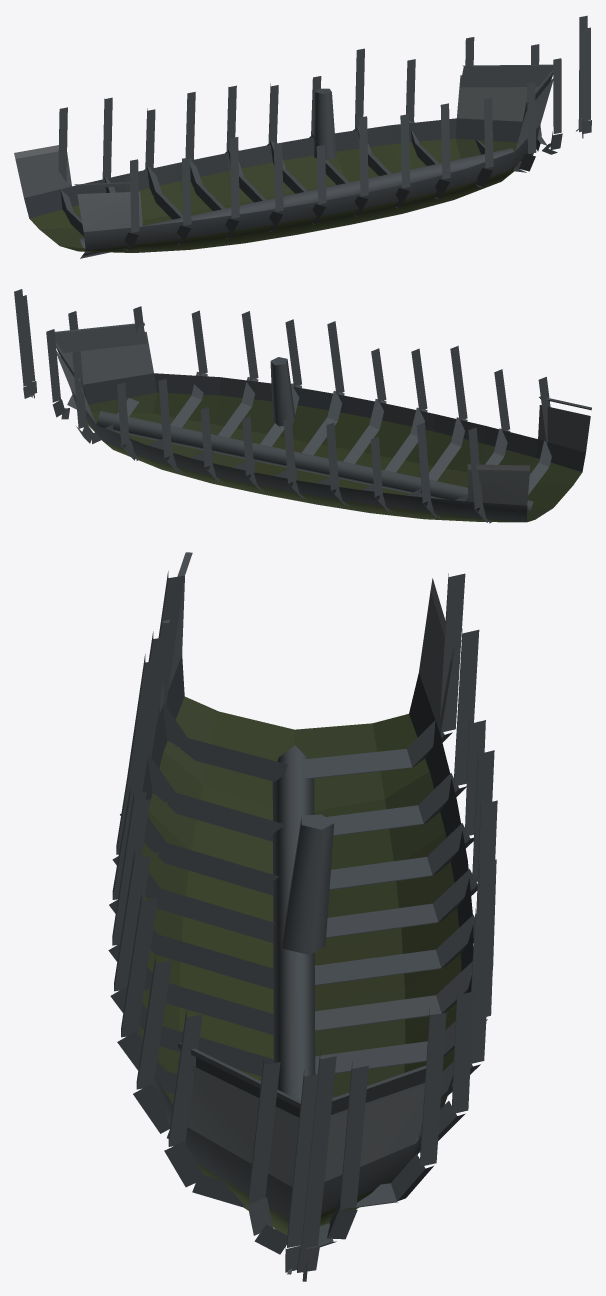
File: wreck_c.glb
3 views of the same model, one above another, from view 1: azimuth 30°, elevation 25°; view 2: azimuth 150°, elevation 25°; view 3: azimuth 270°, elevation 25° (orthographic). The views are drawn at different scales.
Parts seen in each view (by area): view 1: hull; view 2: hull; view 3: hull.
Boxes of the visible parts, bbox=[...] form: hull: bbox=[14, 15, 591, 258]; hull: bbox=[14, 289, 591, 523]; hull: bbox=[108, 552, 497, 1281].
Size of the model in its own units: 12.79 by 3.29 by 3.96.
